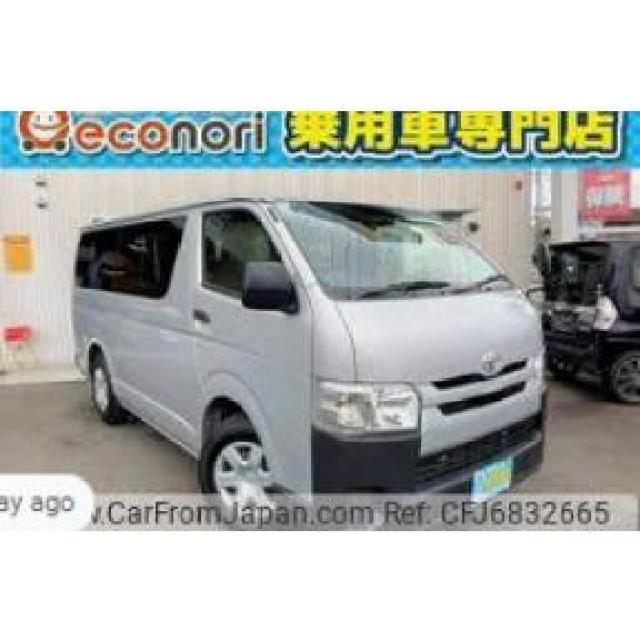Van: (71, 199, 553, 496)
